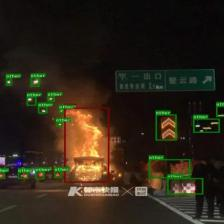fire: (64, 108, 109, 182)
